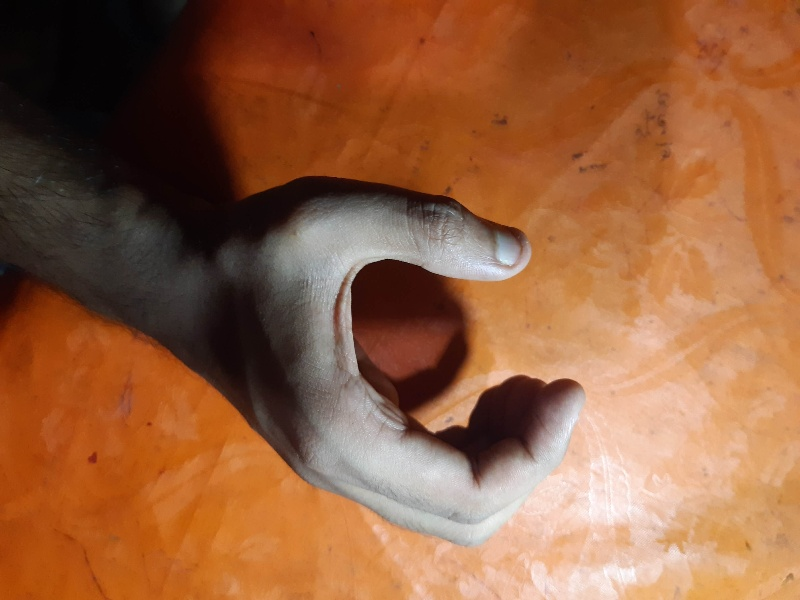one: (231, 140, 606, 553)
